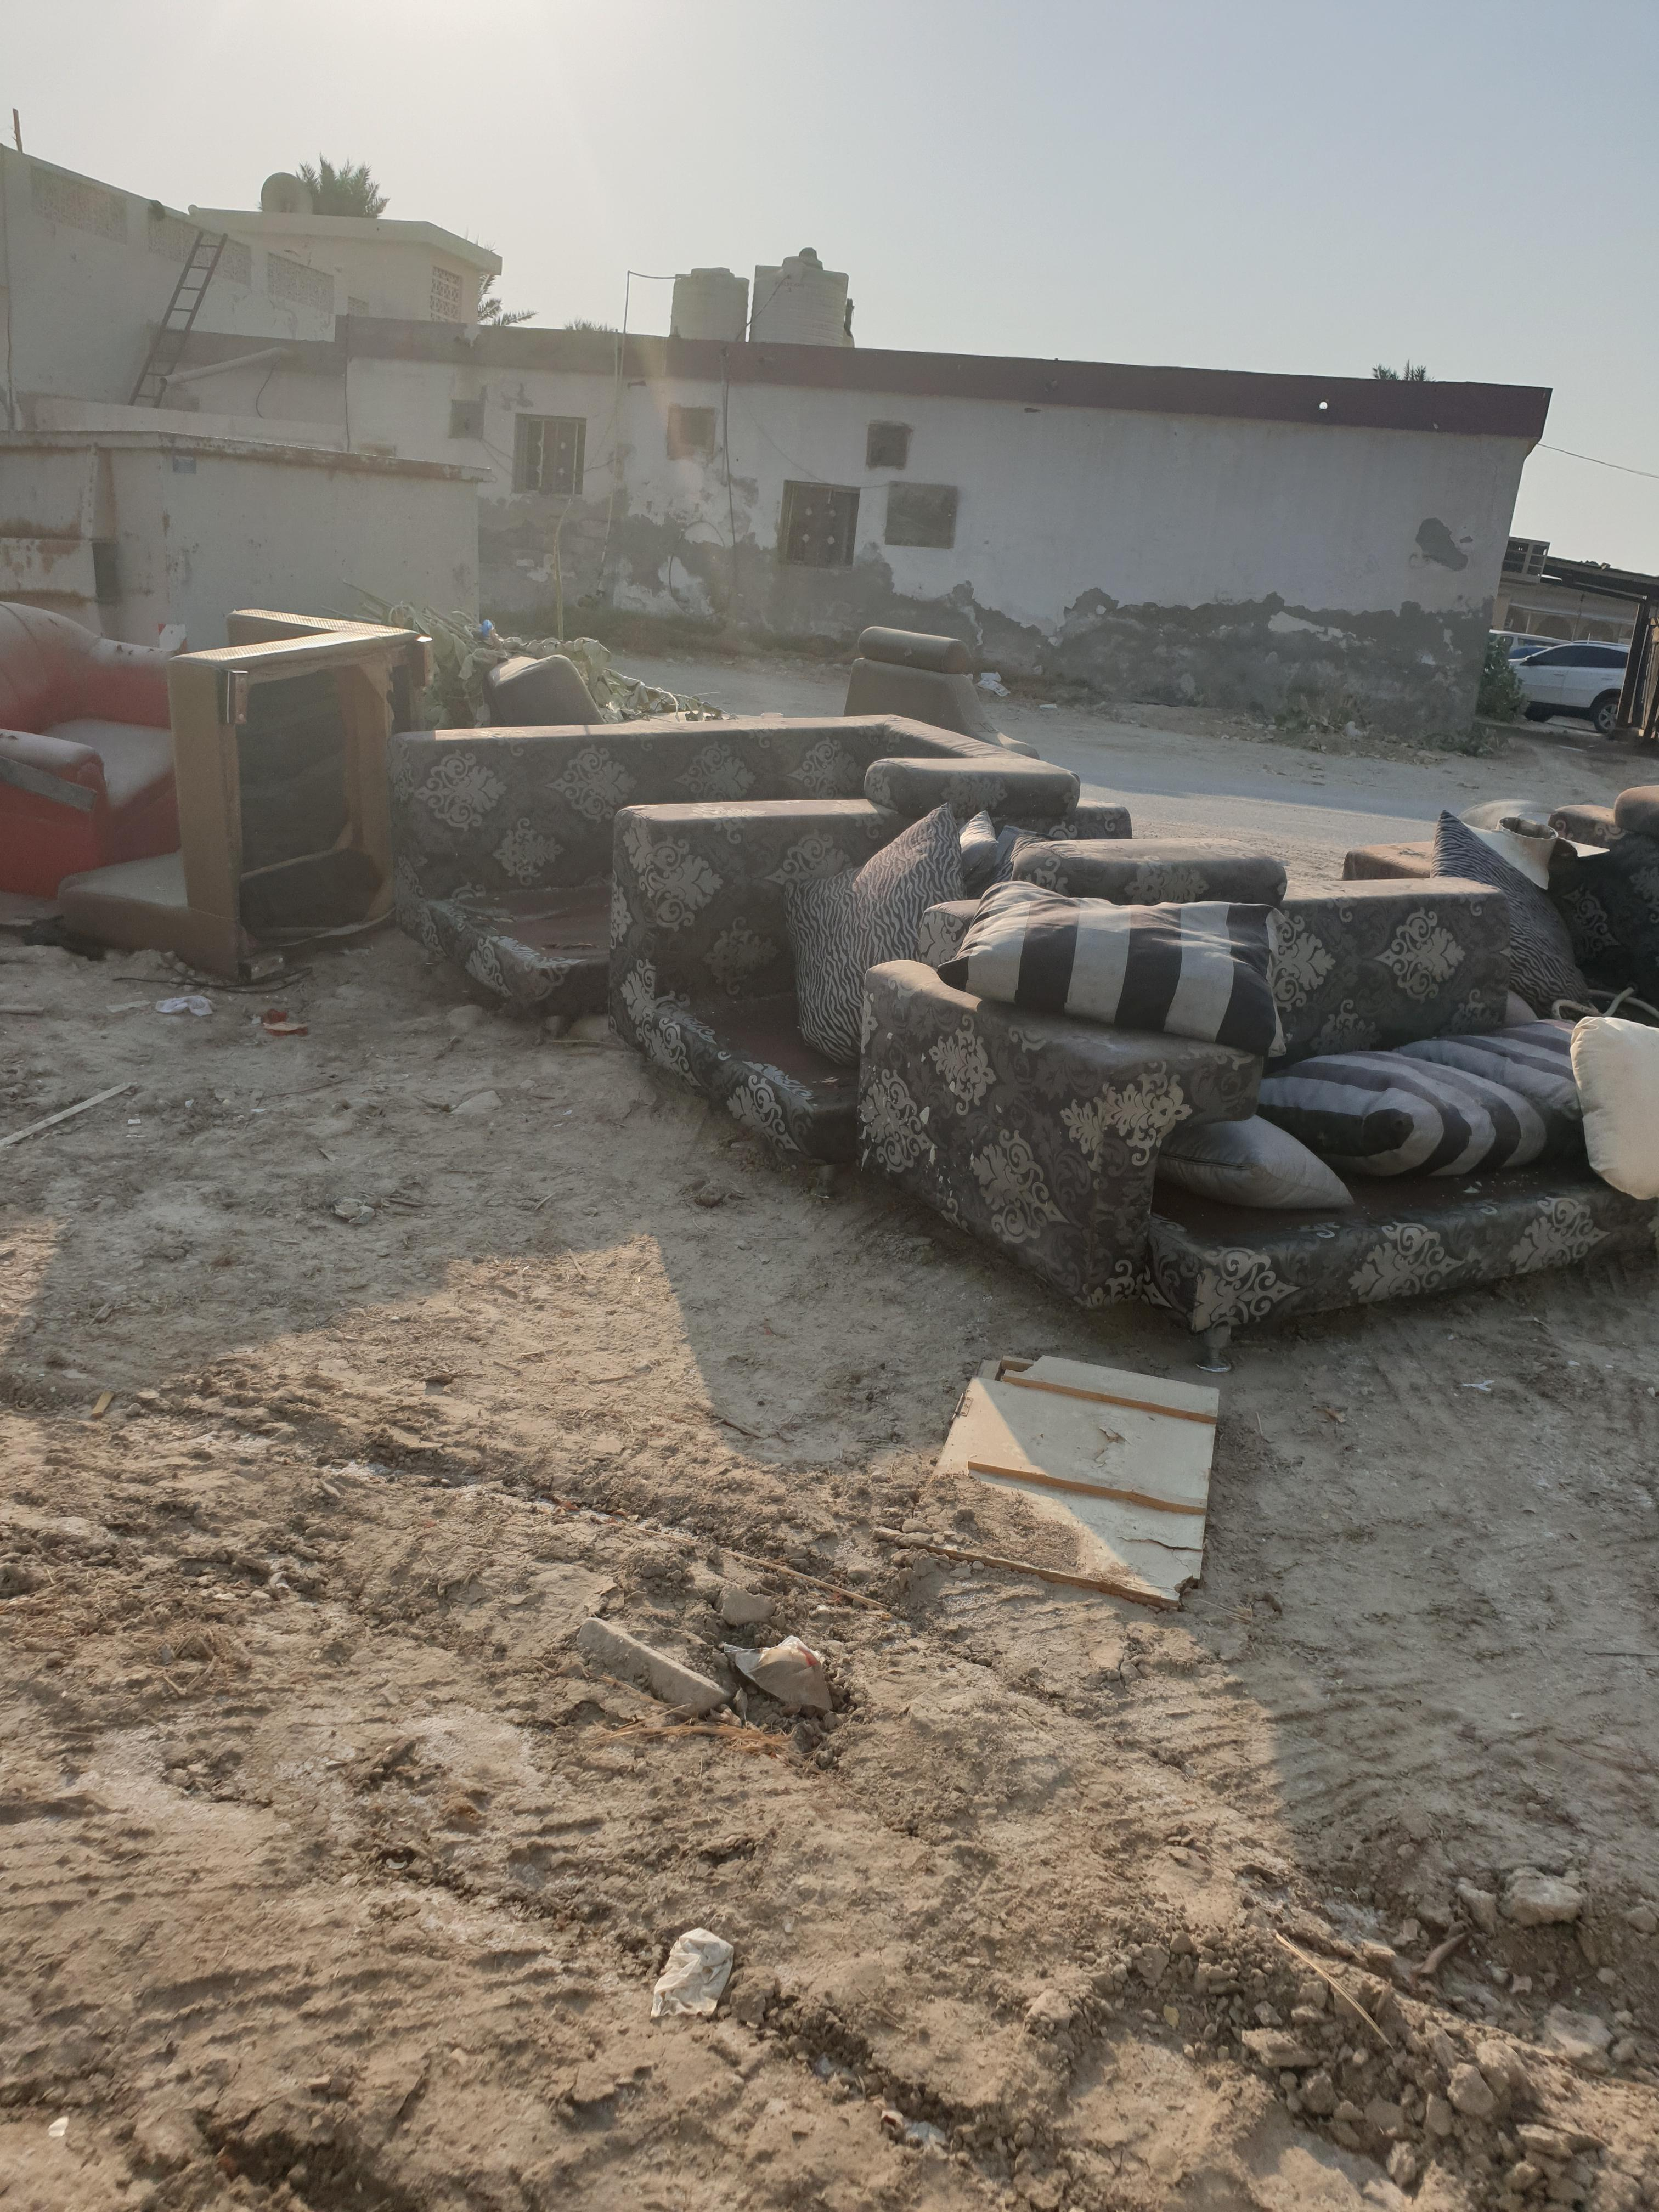uncollected_waste: (108, 552, 1600, 1550), (997, 794, 1516, 1474), (683, 679, 1227, 1296), (359, 603, 889, 1092), (19, 592, 538, 967)
